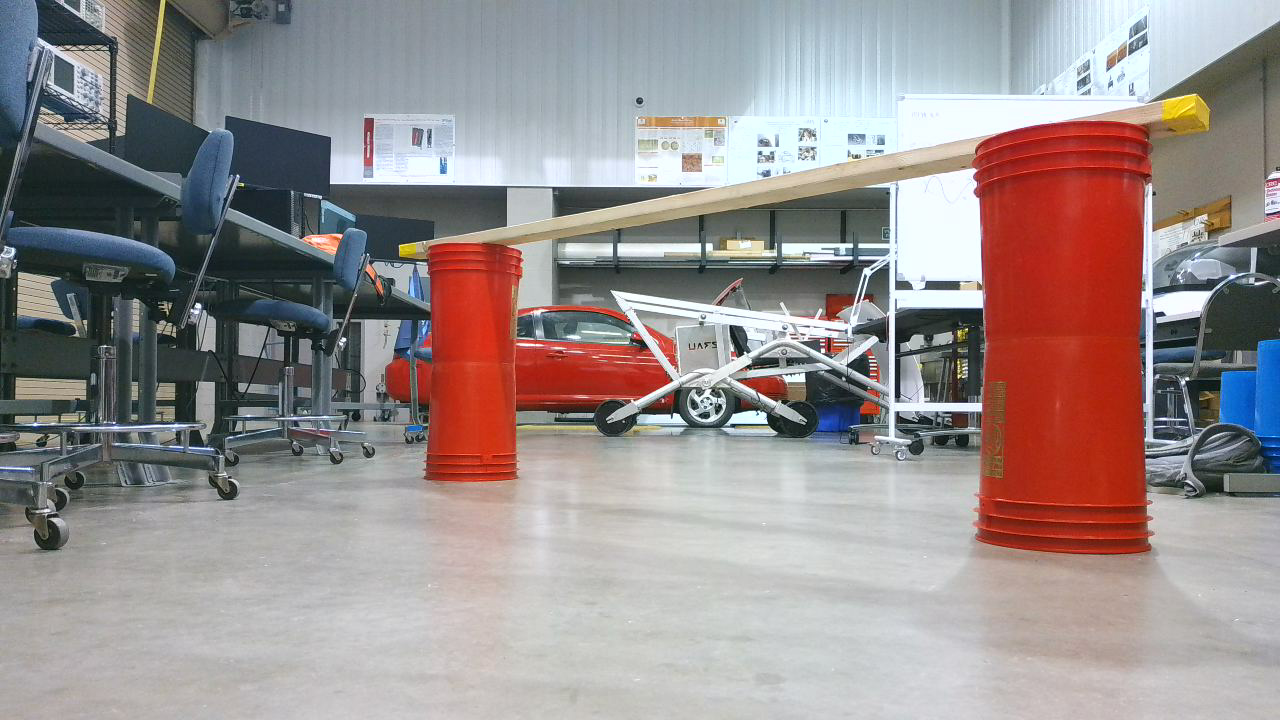red_bucket_arch: (421, 87, 1220, 566)
